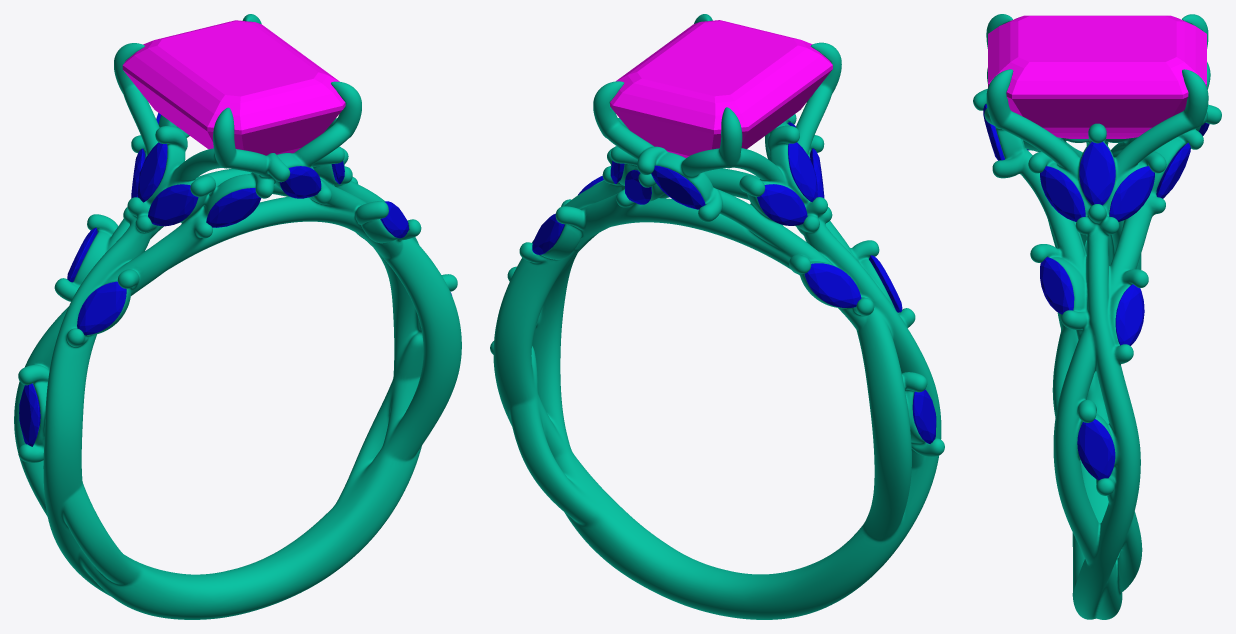
File: EM_2CT_Silver.glb
The picture shows the model from 3 angles, left to right: view 1: azimuth 30°, elevation 25°; view 2: azimuth 150°, elevation 25°; view 3: azimuth 270°, elevation 25°; orthographic projection.
Parts seen in each view (by area): view 1: Metal 01, CS_Diamond_Emerald, Diamond_Marquise_side.003, Diamond_Marquise_side.006, Diamond_Marquise_side.011, Diamond_Marquise_side.007, Diamond_Marquise_side.004, Diamond_Marquise_side.014, Diamond_Marquise_side; view 2: Metal 01, CS_Diamond_Emerald, Diamond_Marquise_side.002, Diamond_Marquise_side.005, Diamond_Marquise_side.015, Diamond_Marquise_side.007, Diamond_Marquise_side.004, Diamond_Marquise_side.013, Diamond_Marquise_side.012; view 3: Metal 01, CS_Diamond_Emerald, Diamond_Marquise_side.008, Diamond_Marquise_side.001, Diamond_Marquise_side.009, Diamond_Marquise_side.010, Diamond_Marquise_side, Diamond_Marquise_side.013, Diamond_Marquise_side.012, Diamond_Marquise_side.014.
Part boxes in pixels (left/top/right/bottom): Metal 01: left=14, top=14, right=461, bottom=619; CS_Diamond_Emerald: left=122, top=20, right=345, bottom=155; Diamond_Marquise_side.003: left=77, top=281, right=126, bottom=335; Diamond_Marquise_side.006: left=148, top=184, right=198, bottom=226; Diamond_Marquise_side.011: left=206, top=188, right=261, bottom=227; Diamond_Marquise_side.007: left=137, top=142, right=167, bottom=202; Diamond_Marquise_side.004: left=19, top=383, right=40, bottom=446; Diamond_Marquise_side.014: left=279, top=166, right=321, bottom=198; Diamond_Marquise_side: left=380, top=201, right=408, bottom=238; Metal 01: left=490, top=14, right=944, bottom=619; CS_Diamond_Emerald: left=610, top=20, right=832, bottom=157; Diamond_Marquise_side.002: left=804, top=263, right=861, bottom=307; Diamond_Marquise_side.005: left=757, top=184, right=807, bottom=225; Diamond_Marquise_side.015: left=651, top=165, right=705, bottom=209; Diamond_Marquise_side.007: left=788, top=142, right=817, bottom=201; Diamond_Marquise_side.004: left=912, top=389, right=936, bottom=443; Diamond_Marquise_side.013: left=532, top=213, right=564, bottom=254; Diamond_Marquise_side.012: left=625, top=170, right=651, bottom=204; Metal 01: left=973, top=14, right=1221, bottom=619; CS_Diamond_Emerald: left=988, top=15, right=1206, bottom=138; Diamond_Marquise_side.008: left=1079, top=141, right=1115, bottom=205; Diamond_Marquise_side.001: left=1077, top=419, right=1115, bottom=480; Diamond_Marquise_side.009: left=1040, top=166, right=1085, bottom=221; Diamond_Marquise_side.010: left=1109, top=166, right=1154, bottom=221; Diamond_Marquise_side: left=1040, top=257, right=1074, bottom=314; Diamond_Marquise_side.013: left=1115, top=284, right=1144, bottom=345; Diamond_Marquise_side.012: left=1156, top=143, right=1190, bottom=198; Diamond_Marquise_side.014: left=983, top=104, right=1004, bottom=160.
Bounding box in the file's own units: 21.3 × 25.31 × 10.24.
